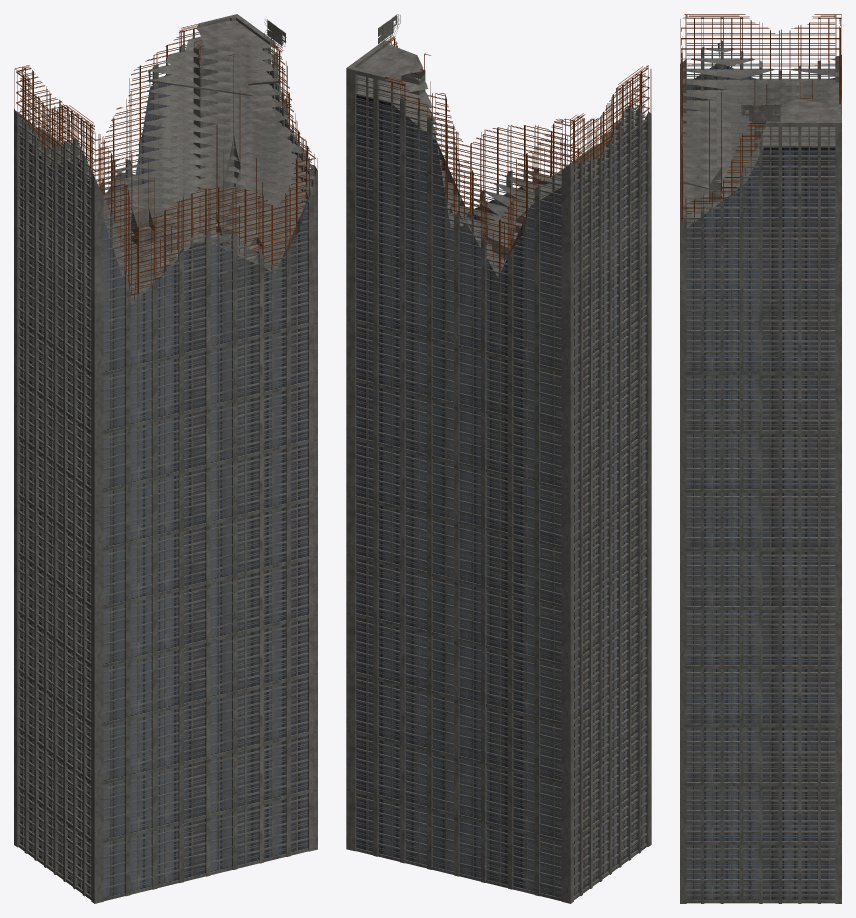
File: building_06.glb
The picture shows the model from 3 angles, left to right: view 1: azimuth 30°, elevation 25°; view 2: azimuth 150°, elevation 25°; view 3: azimuth 270°, elevation 25°; orthographic projection.
Visible parts, largest first — view 1: Building 06; view 2: Building 06; view 3: Building 06.
Part boxes in pixels (x1,y1,x2,y2): Building 06: (14, 14, 317, 903); Building 06: (346, 14, 651, 903); Building 06: (680, 14, 841, 903).
Size of the model in its own units: 80 by 272 by 50.
4 materials, 4 textured.
